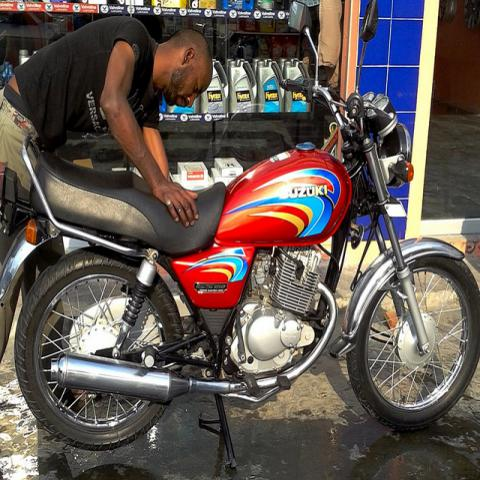motorcycle: (0, 1, 479, 472)
